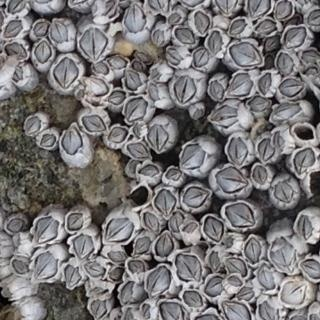Barnacle: (78, 27, 108, 62), (270, 236, 296, 273), (214, 167, 248, 193), (231, 41, 264, 67), (223, 202, 255, 228), (53, 57, 78, 88), (144, 266, 170, 295), (34, 251, 60, 280), (176, 254, 201, 284), (172, 75, 195, 107), (211, 106, 242, 129), (184, 186, 210, 211), (106, 217, 133, 241), (72, 232, 94, 261), (125, 4, 146, 34), (282, 281, 306, 307), (35, 217, 59, 243), (181, 144, 205, 170), (124, 96, 148, 122), (61, 127, 82, 156), (221, 300, 251, 320), (154, 189, 177, 215), (228, 74, 254, 97), (147, 124, 169, 151), (293, 148, 314, 175), (226, 138, 246, 166), (258, 262, 276, 291), (273, 103, 300, 122), (203, 216, 223, 241), (80, 115, 107, 133), (155, 231, 174, 255), (126, 142, 151, 160), (34, 39, 52, 64), (273, 180, 293, 202), (283, 27, 305, 47), (160, 302, 184, 320), (245, 236, 261, 263), (256, 138, 274, 162), (279, 78, 303, 96), (301, 257, 320, 279), (65, 263, 81, 289), (297, 215, 313, 241), (227, 255, 247, 275), (249, 0, 269, 20), (259, 301, 280, 320), (5, 42, 27, 60), (184, 290, 204, 309), (205, 276, 224, 296), (173, 27, 194, 45), (108, 126, 130, 143), (88, 79, 108, 97), (208, 30, 223, 54), (194, 11, 209, 35), (51, 20, 68, 41), (255, 19, 276, 36), (277, 53, 293, 75), (119, 283, 134, 306), (258, 72, 273, 95), (4, 20, 23, 38), (276, 0, 294, 19), (124, 71, 141, 91), (193, 48, 210, 68), (13, 257, 31, 275), (90, 300, 106, 320), (135, 236, 151, 256), (169, 213, 185, 233), (210, 81, 225, 102), (6, 0, 27, 15), (145, 211, 159, 233), (137, 164, 159, 178), (107, 89, 125, 106), (266, 34, 282, 53), (237, 287, 257, 302), (249, 96, 269, 111), (86, 262, 107, 276), (67, 213, 83, 231), (33, 21, 51, 37), (102, 0, 118, 18), (252, 166, 267, 185), (228, 20, 247, 35), (108, 250, 128, 264), (6, 216, 23, 232), (167, 48, 183, 65), (148, 0, 168, 13), (128, 259, 144, 275), (109, 267, 126, 282), (165, 166, 182, 181), (26, 117, 41, 134), (12, 64, 27, 81), (209, 250, 221, 270), (274, 130, 286, 150), (301, 49, 318, 62), (40, 134, 55, 148), (136, 51, 150, 66), (107, 56, 126, 67), (153, 28, 164, 47), (88, 287, 108, 297), (308, 10, 320, 26), (149, 84, 160, 101), (228, 276, 243, 288), (184, 221, 197, 234), (95, 62, 108, 75), (142, 303, 152, 319), (301, 66, 316, 76), (168, 13, 180, 25), (4, 281, 14, 295), (134, 124, 143, 138), (152, 69, 162, 81), (224, 235, 233, 247), (194, 108, 203, 120), (131, 62, 141, 71)
